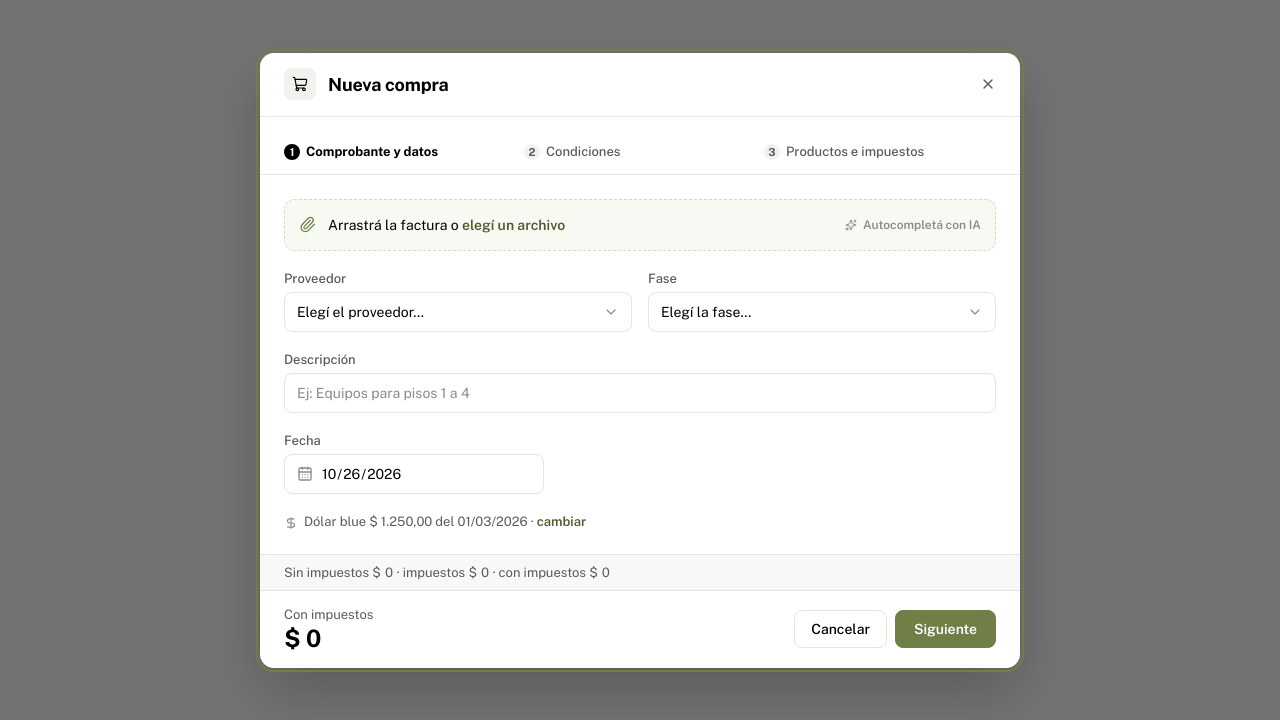
Test: smoke de modales › Siguiente no avanza con datos faltantes y dice cuáles en cada campo
Click the button "Siguiente": (946, 629) [895,610,996,648]
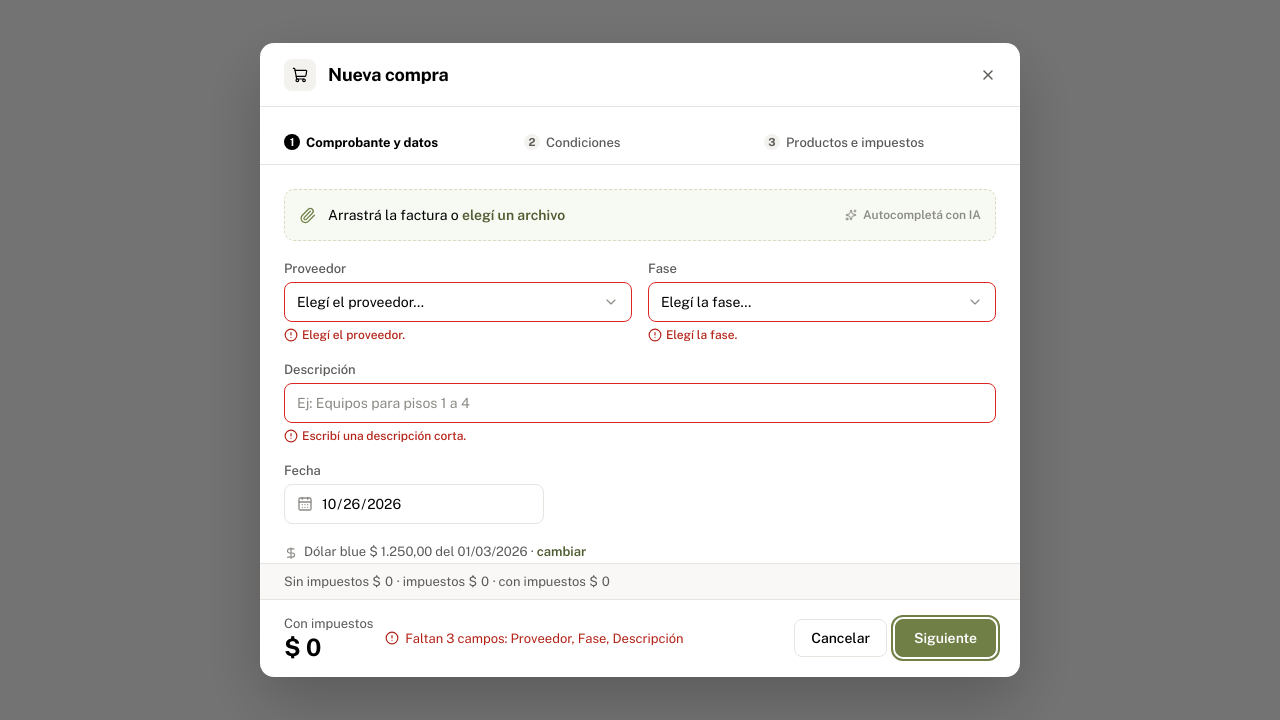
Check: the text "Elegí el proveedor." is shown, box [284,328,405,342]
Check: the text "Escribí una descripción corta." is shown, box [284,429,466,443]
